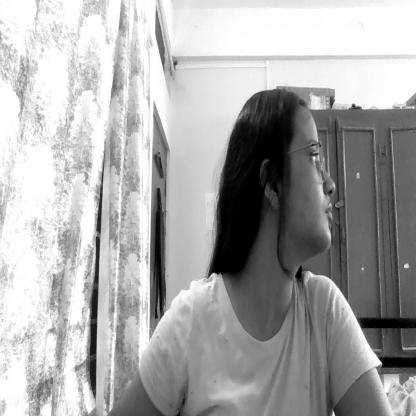Distracted: (216, 87, 348, 266)
